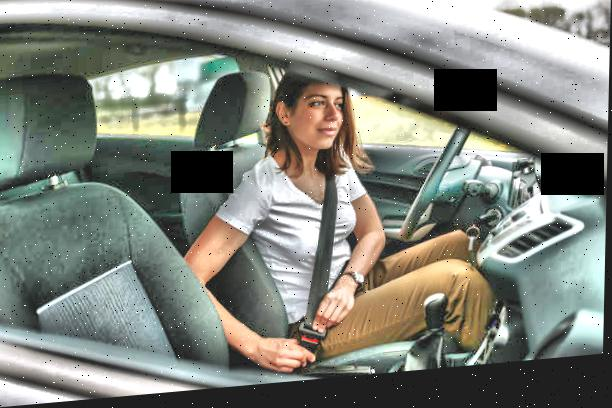seatbelt: (303, 164, 352, 354)
